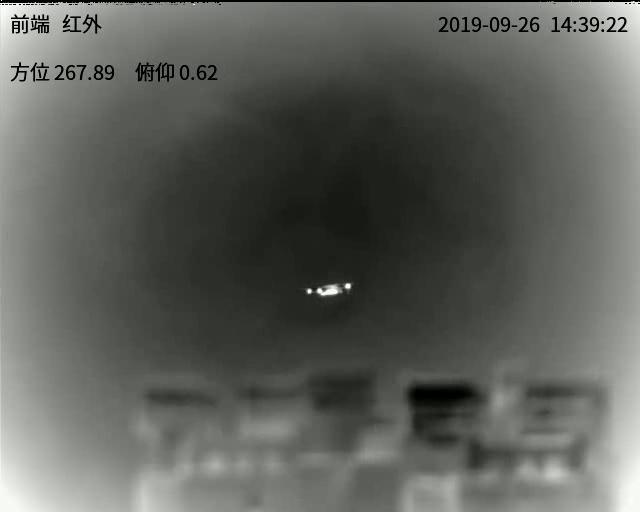DRONE: (305, 281, 354, 297)
